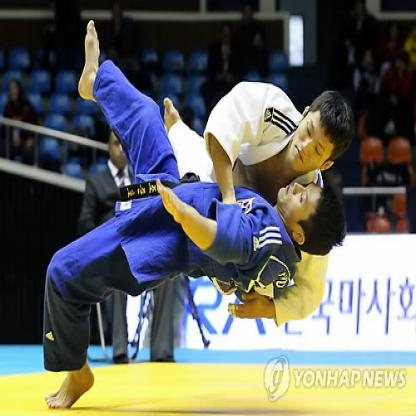Fall_Down: (42, 18, 345, 412)
